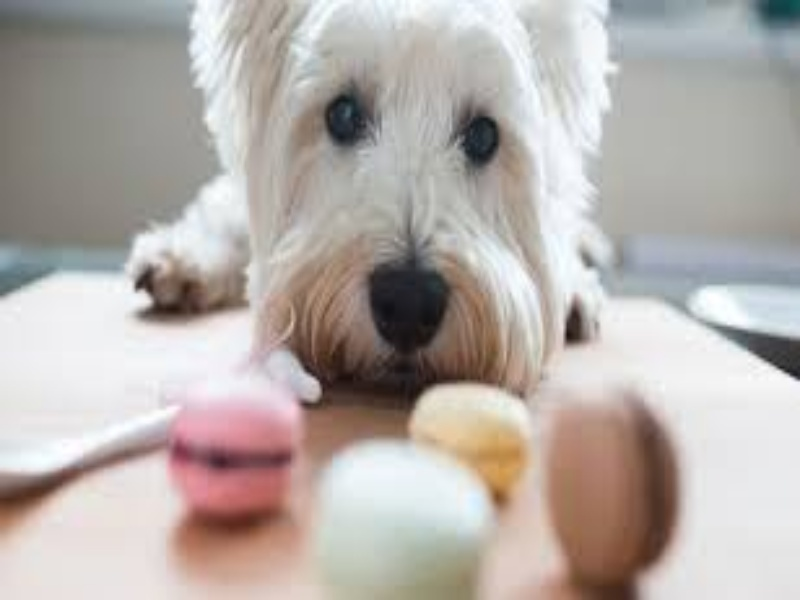dog: (136, 16, 662, 351)
